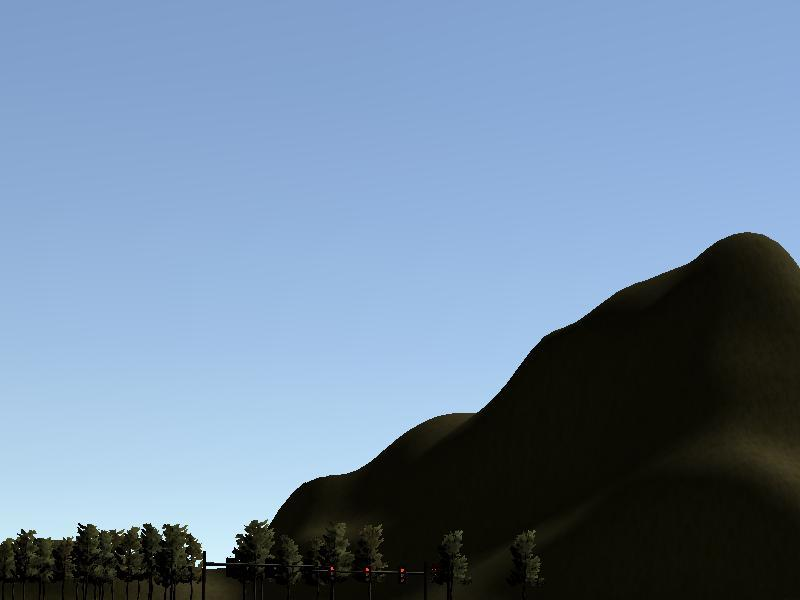Red: (365, 565, 371, 578), (399, 565, 405, 578), (328, 565, 334, 575)
